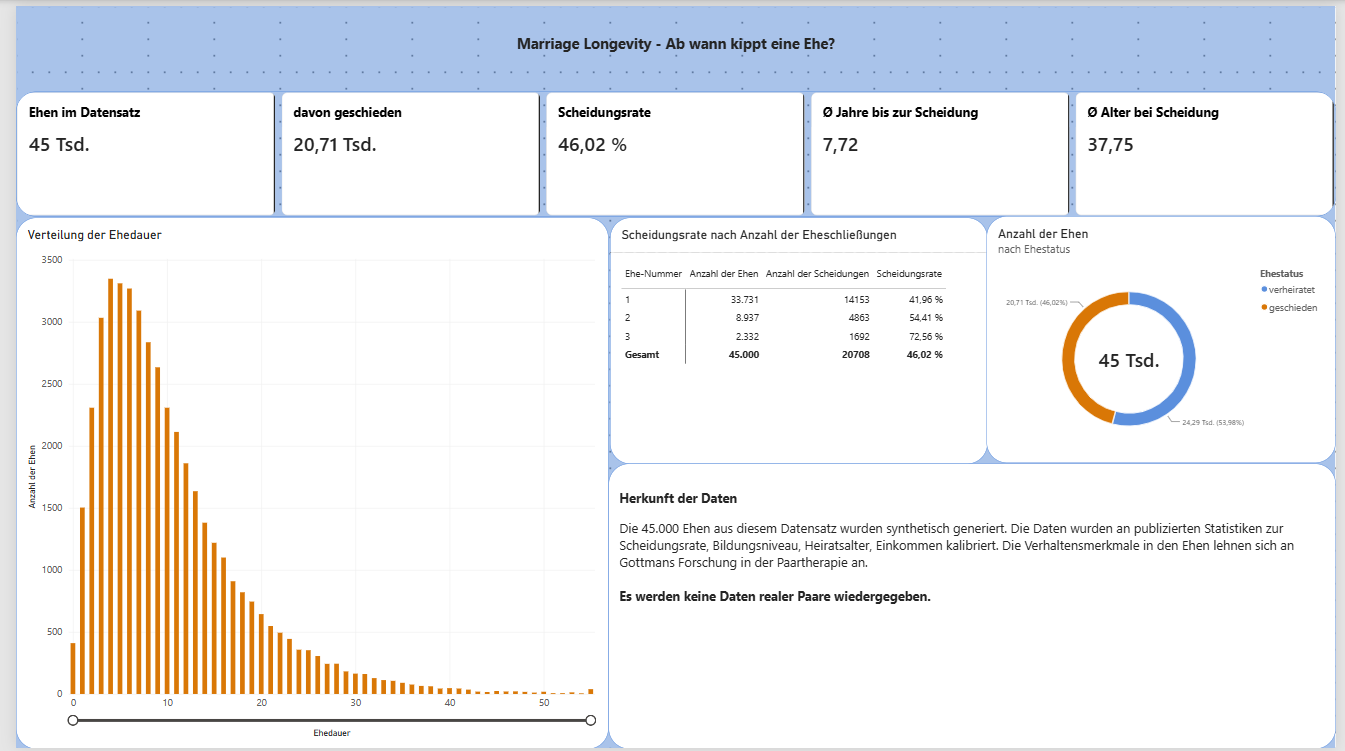

The dashboard page shown, as its layout file describes it:
{"tool":"powerbi","page":{"name":"Übersicht","canvas":[1920,1080],"ordinal":0},"visuals":[{"type":"shape","box":[0,0,1918.9,1079.7],"z":0},{"type":"cardVisual","fields":{"Data":["Ehen.Ehen_gesamt","Ehen.divorced_anzahl","Ehen.Scheidungsquote","_Measures.AVG_years_to_divorce","_Measures.AVG_age_divorced"]},"box":[0,124,1920,182.3],"z":1000},{"type":"pivotTable","title":"Scheidungsrate nach Anzahl der Eheschließungen","fields":{"Rows":["Ehen.marriage_number"],"Values":["_Measures.Ehen_gesamt","_Measures.divorced_anzahl","_Measures.Scheidungsquote"]},"box":[862.9,307.4,549.5,358.6],"z":2000},{"type":"clusteredColumnChart","title":"Verteilung der Ehedauer","fields":{"Category":["Ehen.years_married_1_year_bin"],"Y":["_Measures.Ehen_gesamt"]},"box":[0,307.4,861.8,773.4],"z":3000},{"type":"textbox","box":[861.8,665.5,1058.2,415.3],"z":4000},{"type":"donutChart","title":"Anzahl der Ehen","fields":{"Category":["Ehen.Ehestatus"],"Y":["CountNonNull(Ehen.Ehestatus)"]},"box":[1412,306.3,508,359],"z":5000},{"type":"textbox","box":[0,0,1918.9,124],"z":6000}]}

Visuals, with their boxes in screenshot pixels (x1, y1, x2, y2), scaled from the page's 1920x1080 canvas onto the 1345x751 screenshot:
shape: 0,0,1344,750
cardVisual - Ehen.Ehen_gesamt x Ehen.divorced_anzahl: 0,86,1344,213
"Scheidungsrate nach Anzahl der Eheschließungen" pivotTable: 604,214,989,463
"Verteilung der Ehedauer" clusteredColumnChart: 0,214,604,750
textbox: 604,463,1344,750
"Anzahl der Ehen" donutChart: 989,213,1344,463
textbox: 0,0,1344,86
